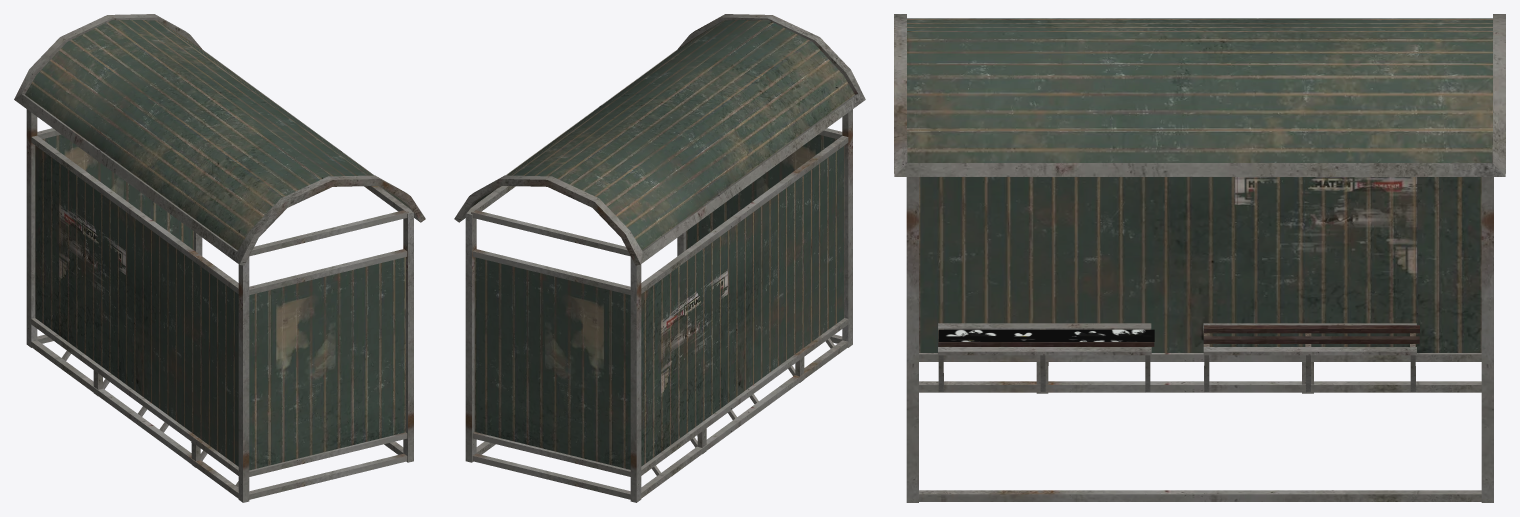
Rendered from busstop.glb.
3 views of the same model, side by side, from view 1: azimuth 30°, elevation 25°; view 2: azimuth 150°, elevation 25°; view 3: azimuth 270°, elevation 25° (orthographic). The views are drawn at different scales.
Parts seen in each view (by area): view 1: model_st1polySurface33polySurface38_lambert2_0; view 2: model_st1polySurface33polySurface38_lambert2_0; view 3: model_st1polySurface33polySurface38_lambert2_0, pPlane1_lambert1_0.
Part boxes in pixels (x1=…): model_st1polySurface33polySurface38_lambert2_0: x1=14, y1=14, x2=425, y2=502; model_st1polySurface33polySurface38_lambert2_0: x1=454, y1=14, x2=865, y2=502; model_st1polySurface33polySurface38_lambert2_0: x1=894, y1=14, x2=1505, y2=502; pPlane1_lambert1_0: x1=938, y1=329, x2=1154, y2=341.
Bounding box in the file's own units: 1.79 × 2.8 × 3.74.
Materials: 2 (2 with a texture image).
